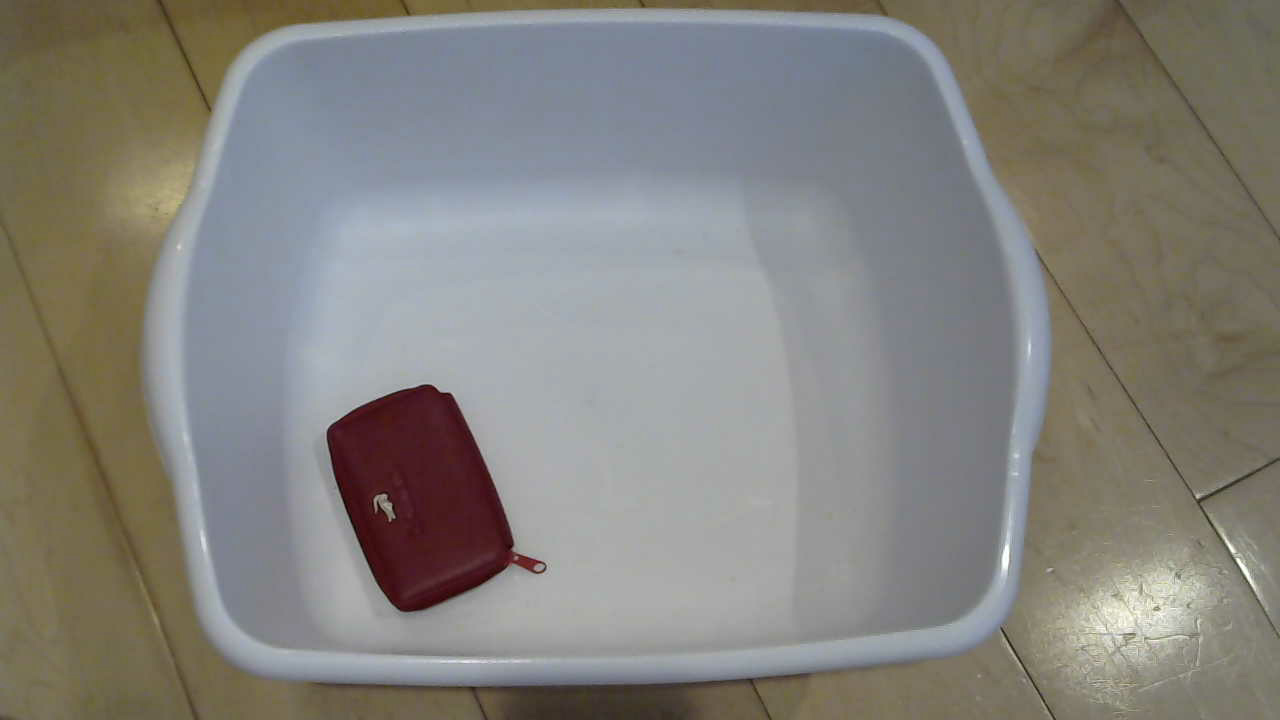wallet: (293, 385, 529, 625)
